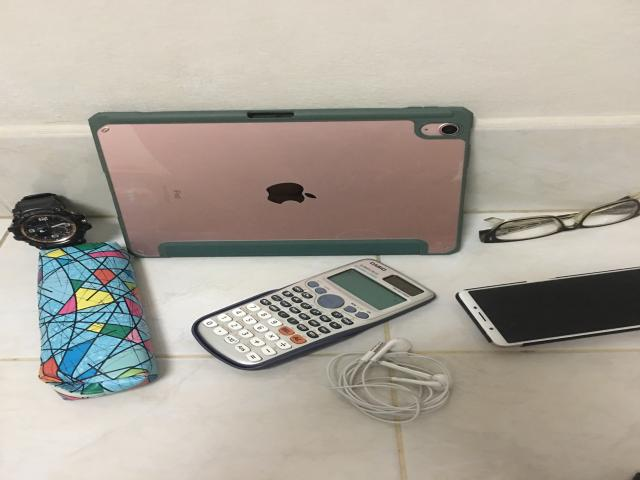Glasses: (480, 194, 640, 243)
Mobile phone: (455, 267, 640, 347)
Watch: (8, 193, 92, 250)
wire: (327, 338, 452, 424)
